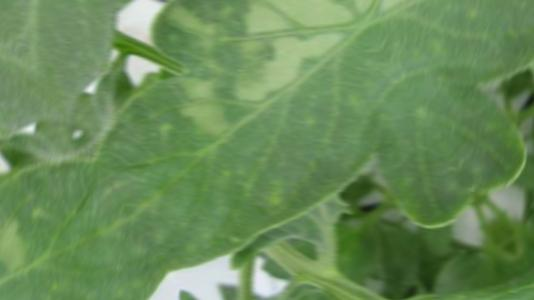Tomato leaf bacterial spot: (11, 0, 480, 300)
